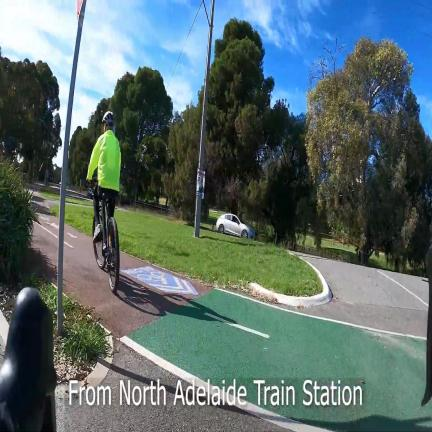Bike_Lane: (63, 228, 194, 336), (34, 216, 58, 284)
Green_Bike_Lane: (128, 290, 432, 432)
